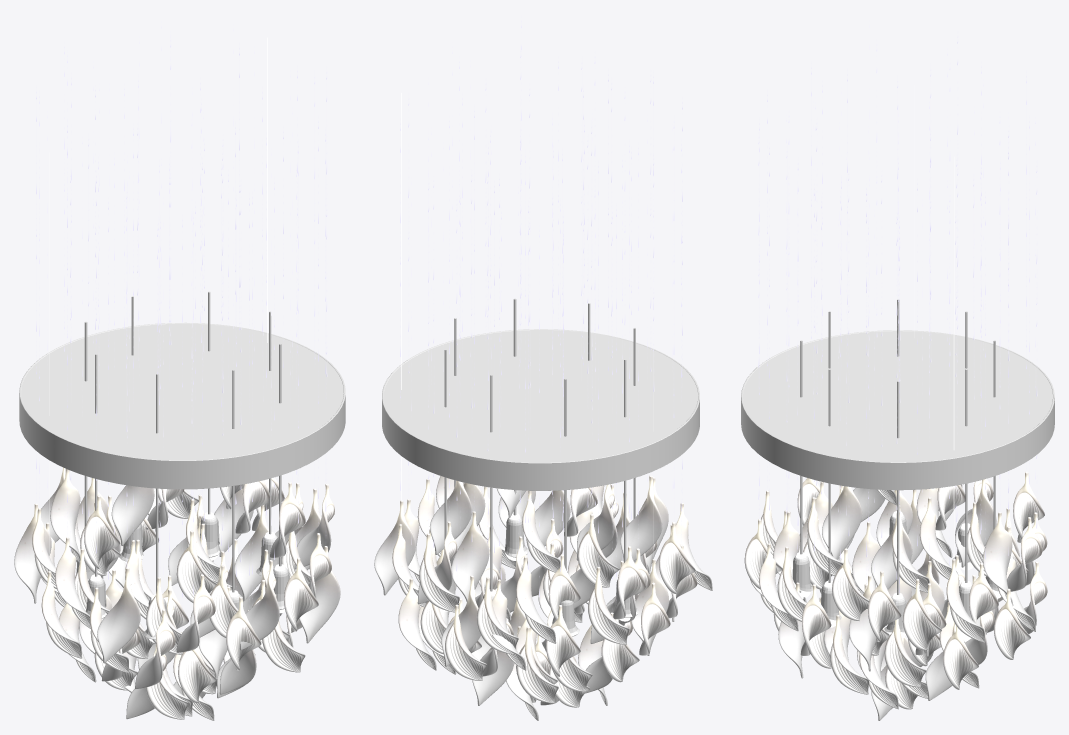
File: chandelier.glb
3 renders of one model, left to right at view 1: azimuth 30°, elevation 25°; view 2: azimuth 150°, elevation 25°; view 3: azimuth 270°, elevation 25°, orthographic. The views are drawn at different scales.
Parts seen in each view (by area): view 1: Cylinder010_307, Circle043_306, Espira_Leaf-312_19, Espira_Leaf-345_123, Espira_Leaf-326_75, Espira_Leaf-363_175, Espira_Leaf-361_167, Espira_Leaf-319_47, Espira_Leaf-364_179, Espira_Leaf-304_11, Espira_Leaf-365_183, Espira_Leaf-303_7 (+31 smaller); view 2: Cylinder010_307, Circle043_306, Espira_Leaf-330_91, Espira_Leaf-304_11, Espira_Leaf-362_171, Espira_Leaf-357_155, Espira_Leaf-348_135, Espira_Leaf-326_75, Espira_Leaf-319_47, Espira_Leaf-303_7, Espira_Leaf-373_211, Espira_Leaf-399_279 (+32 smaller); view 3: Cylinder010_307, Circle043_306, Espira_Leaf-375_219, Espira_Leaf-395_267, Espira_Leaf-316_35, Espira_Leaf-385_243, Espira_Leaf-379_231, Espira_Leaf-399_279, Espira_Leaf-324_67, Espira_Leaf-322_59, Espira_Leaf-315_31, Espira_Leaf-357_155 (+37 smaller).
Boxes of the visible parts, left/top/right/bottom form: Cylinder010_307: left=21, top=323, right=343, bottom=460; Circle043_306: left=19, top=322, right=345, bottom=489; Espira_Leaf-312_19: left=97, top=567, right=140, bottom=663; Espira_Leaf-345_123: left=111, top=485, right=154, bottom=545; Espira_Leaf-326_75: left=50, top=469, right=80, bottom=562; Espira_Leaf-363_175: left=234, top=505, right=268, bottom=600; Espira_Leaf-361_167: left=299, top=546, right=340, bottom=643; Espira_Leaf-319_47: left=14, top=503, right=51, bottom=603; Espira_Leaf-364_179: left=239, top=560, right=279, bottom=650; Espira_Leaf-304_11: left=84, top=495, right=120, bottom=569; Espira_Leaf-365_183: left=178, top=647, right=216, bottom=702; Espira_Leaf-303_7: left=55, top=537, right=90, bottom=628; Cylinder010_307: left=383, top=330, right=698, bottom=462; Circle043_306: left=382, top=329, right=699, bottom=490; Espira_Leaf-330_91: left=451, top=511, right=489, bottom=601; Espira_Leaf-304_11: left=620, top=475, right=662, bottom=560; Espira_Leaf-362_171: left=429, top=480, right=472, bottom=554; Espira_Leaf-357_155: left=374, top=500, right=415, bottom=595; Espira_Leaf-348_135: left=445, top=604, right=486, bottom=680; Espira_Leaf-326_75: left=577, top=514, right=619, bottom=587; Espira_Leaf-319_47: left=588, top=566, right=629, bottom=644; Espira_Leaf-303_7: left=659, top=522, right=695, bottom=593; Espira_Leaf-373_211: left=516, top=626, right=558, bottom=703; Espira_Leaf-399_279: left=398, top=578, right=436, bottom=670; Cylinder010_307: left=743, top=331, right=1052, bottom=461; Circle043_306: left=741, top=330, right=1054, bottom=490; Espira_Leaf-375_219: left=822, top=486, right=862, bottom=559; Espira_Leaf-395_267: left=982, top=512, right=1013, bottom=605; Espira_Leaf-316_35: left=902, top=579, right=941, bottom=650; Espira_Leaf-385_243: left=884, top=619, right=926, bottom=687; Espira_Leaf-379_231: left=832, top=548, right=869, bottom=620; Espira_Leaf-399_279: left=994, top=588, right=1030, bottom=659; Espira_Leaf-324_67: left=943, top=625, right=978, bottom=689; Espira_Leaf-322_59: left=830, top=615, right=868, bottom=694; Espira_Leaf-315_31: left=868, top=571, right=901, bottom=641; Espira_Leaf-357_155: left=946, top=559, right=985, bottom=642.
Bounding box in the file's own units: 0.7065 × 1.62 × 0.7064.
Materials: 9 (1 with a texture image).
